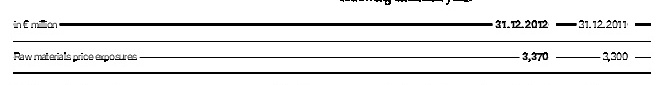table: (0, 0, 659, 85)
